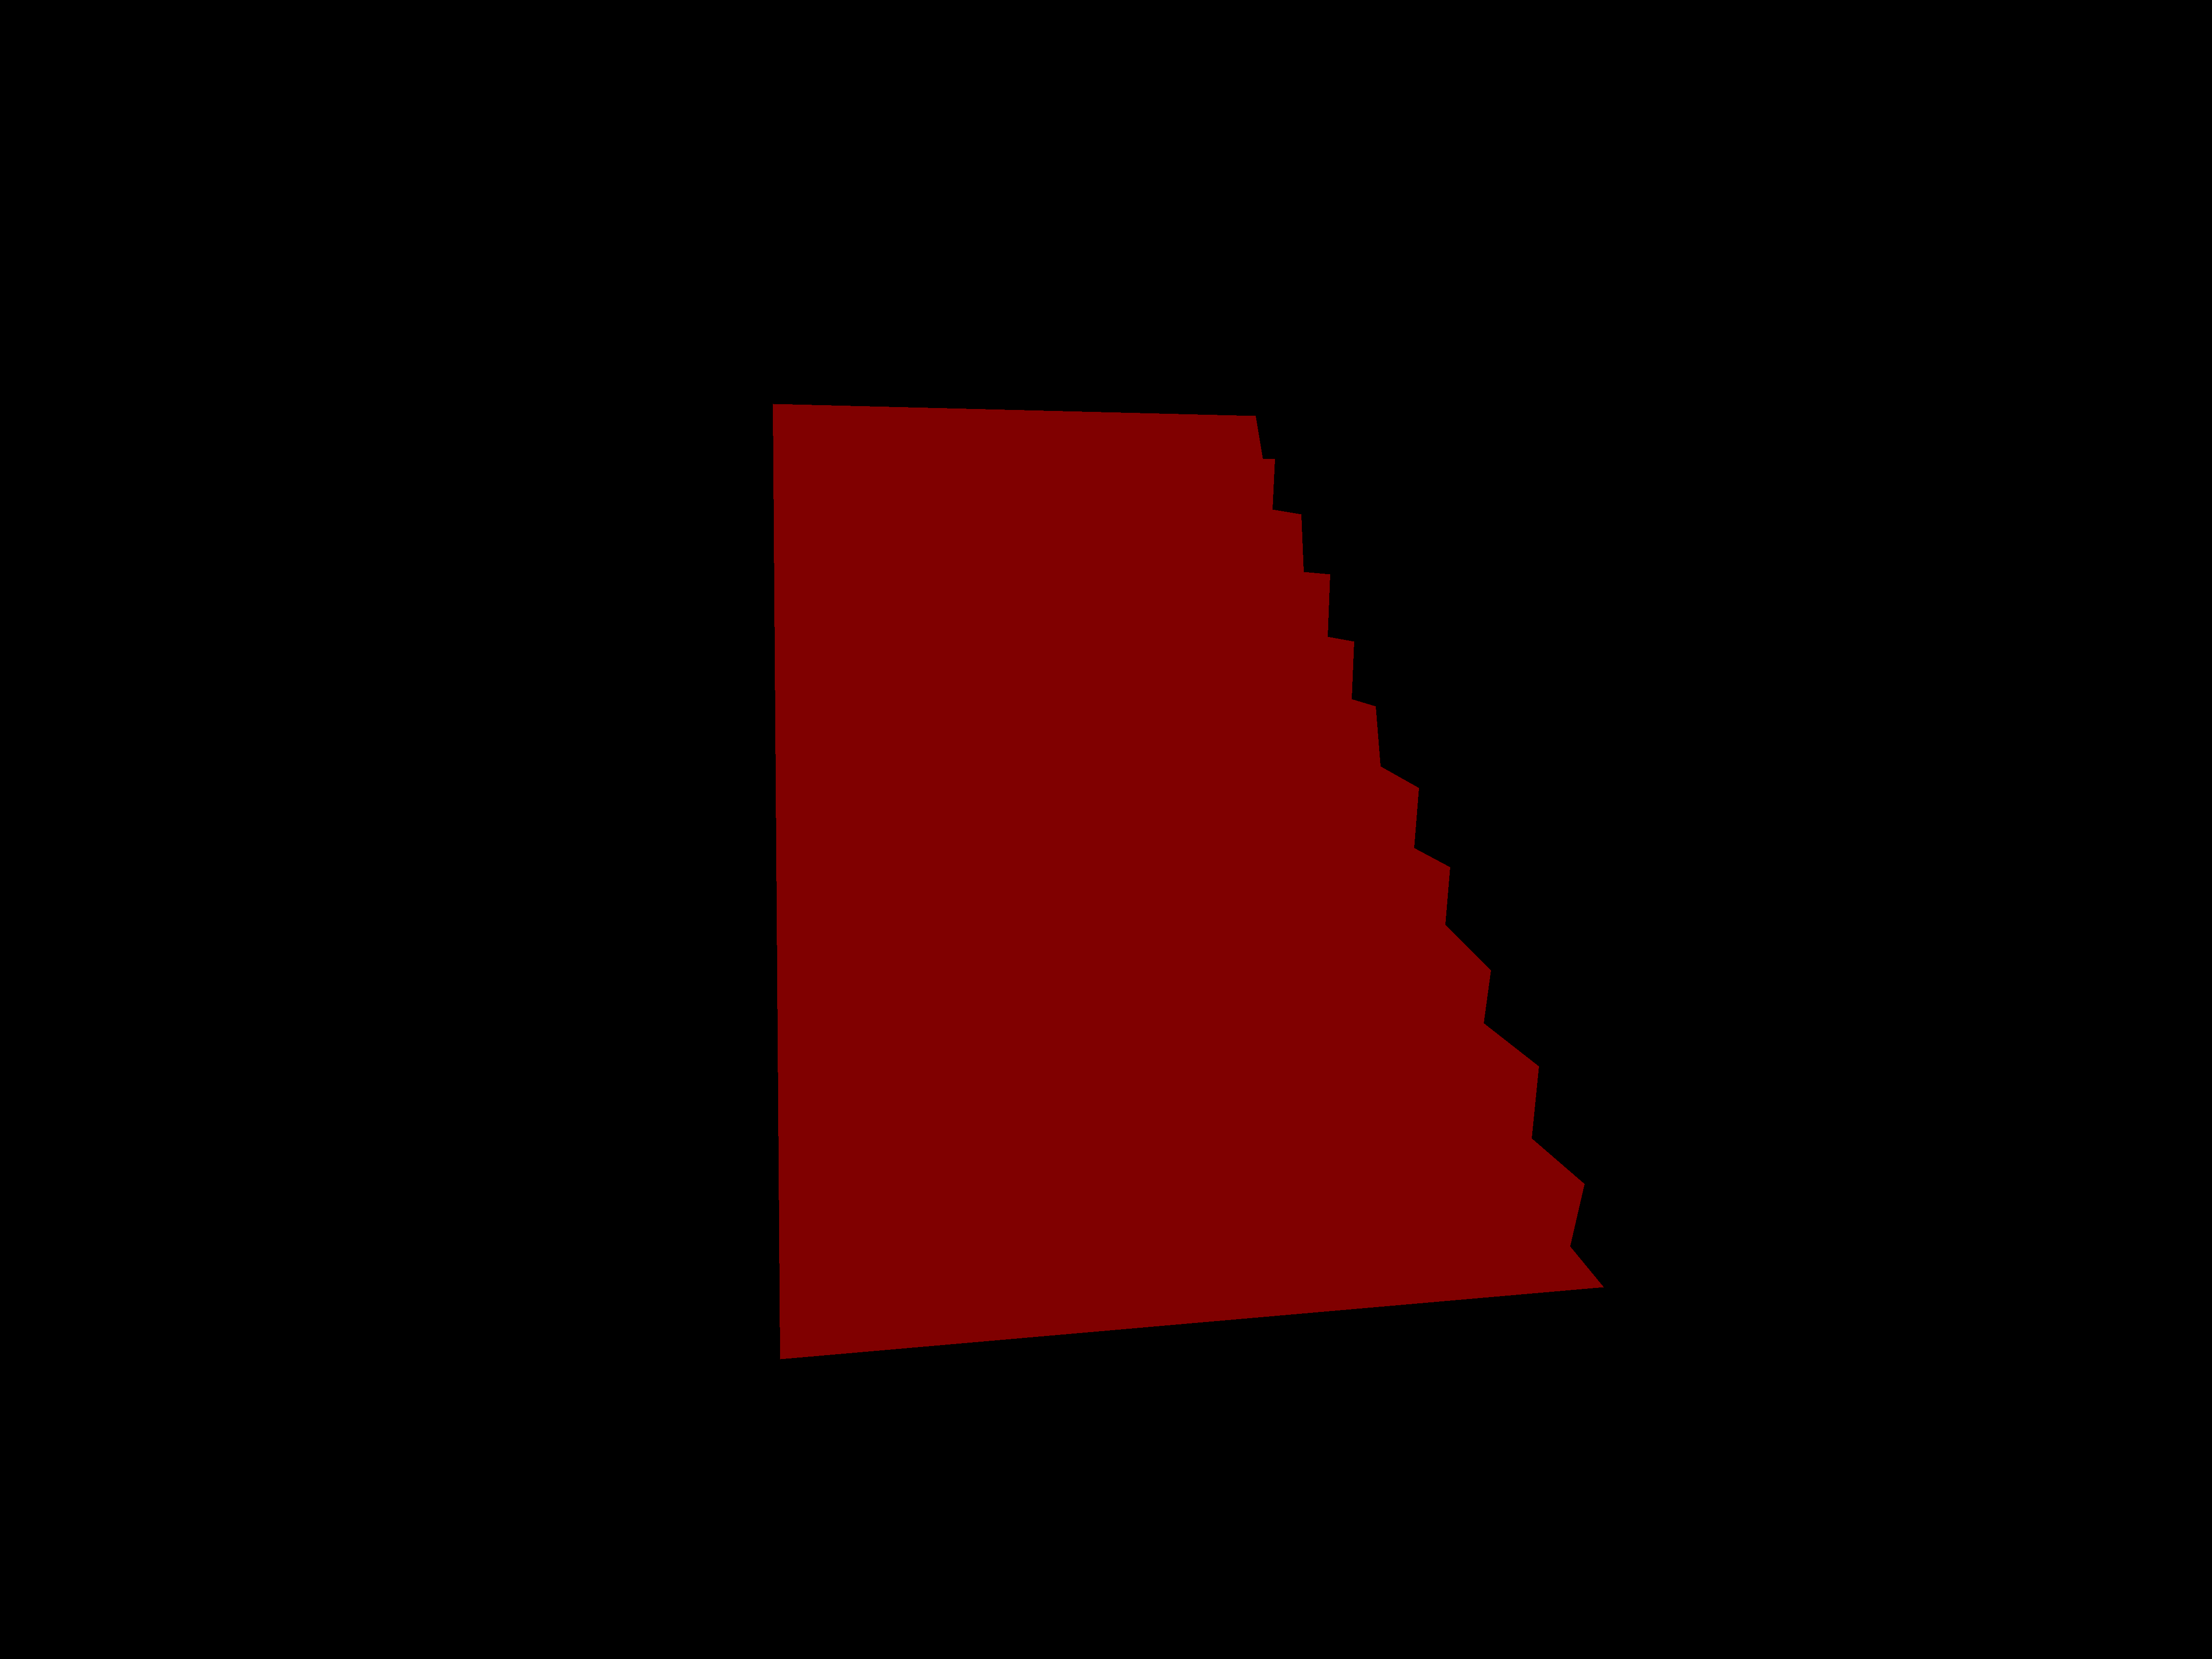stair: (773, 404, 1604, 1359)
